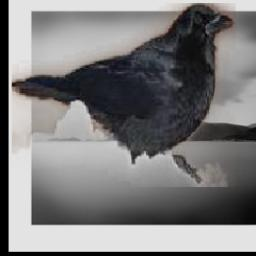Crow: (12, 3, 236, 187)
